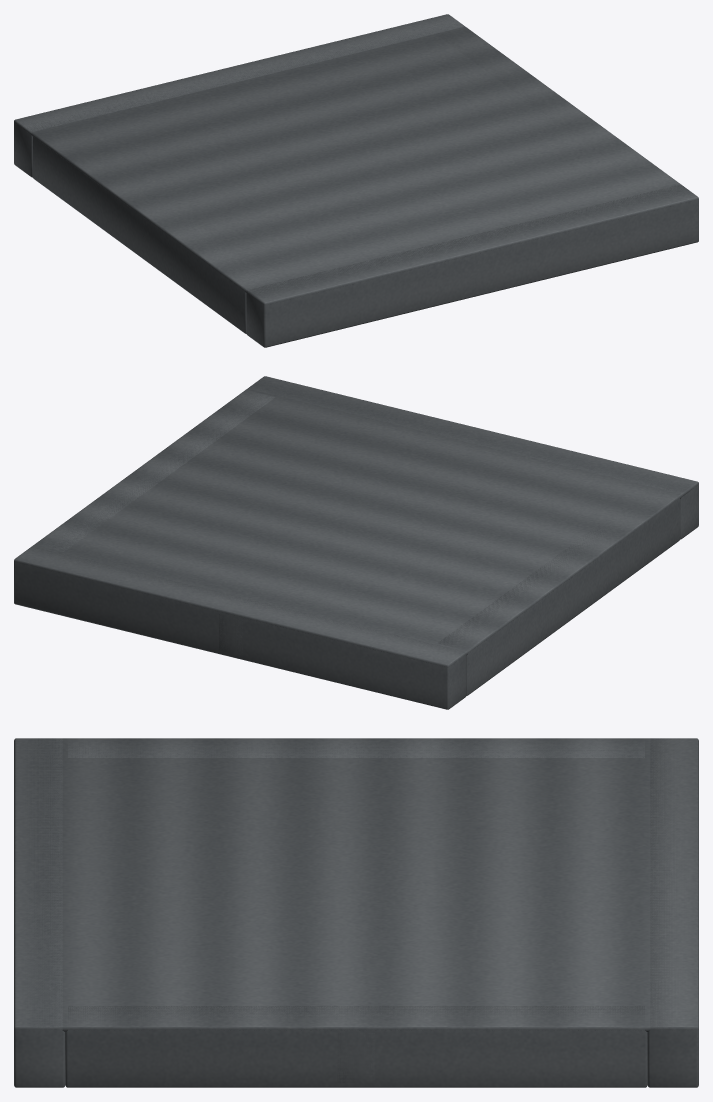
Rendered from WK_CEIL_COFFER_A_01.glb.
The picture shows the model from 3 angles, top to bottom: view 1: azimuth 30°, elevation 25°; view 2: azimuth 150°, elevation 25°; view 3: azimuth 270°, elevation 25°; orthographic projection. The views are drawn at different scales.
Parts seen in each view (by area): view 1: WK_CEIL_COFFER_A_01; view 2: WK_CEIL_COFFER_A_01; view 3: WK_CEIL_COFFER_A_01.
Boxes of the visible parts, x1,y1,x2,y2 form: WK_CEIL_COFFER_A_01: [14, 14, 698, 347]; WK_CEIL_COFFER_A_01: [14, 376, 698, 709]; WK_CEIL_COFFER_A_01: [14, 738, 698, 1087].
Bounding box in the file's own units: 4 × 0.4 × 4.
Materials: 2 (2 with a texture image).
